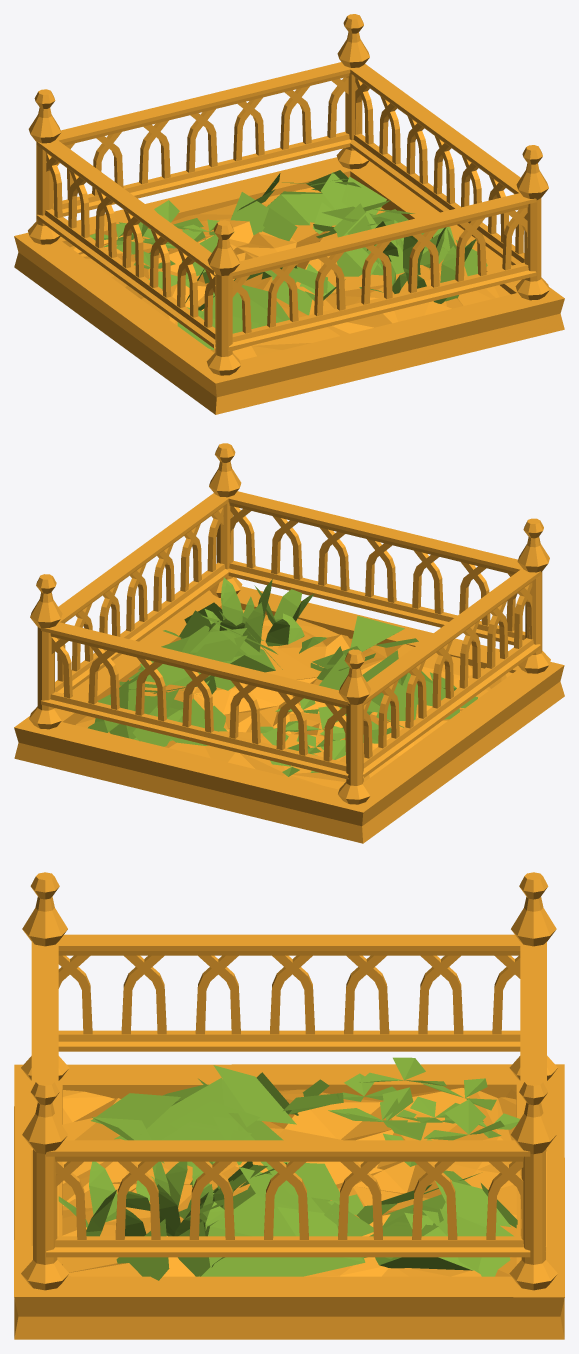
File: SM_Tree_Pot_City_B_1m_Foliage.fbx
The picture shows the model from 3 angles, top to bottom: view 1: azimuth 30°, elevation 25°; view 2: azimuth 150°, elevation 25°; view 3: azimuth 270°, elevation 25°; orthographic projection. The views are drawn at different scales.
Visible parts, largest first — view 1: SM_Tree_Pot_City_B_1m_Foliage; view 2: SM_Tree_Pot_City_B_1m_Foliage; view 3: SM_Tree_Pot_City_B_1m_Foliage.
Boxes of the visible parts, bbox=[...] form: SM_Tree_Pot_City_B_1m_Foliage: bbox=[14, 14, 564, 414]; SM_Tree_Pot_City_B_1m_Foliage: bbox=[14, 443, 564, 843]; SM_Tree_Pot_City_B_1m_Foliage: bbox=[14, 872, 564, 1339].
Size of the model in its own units: 1.13 by 0.5934 by 1.13.
